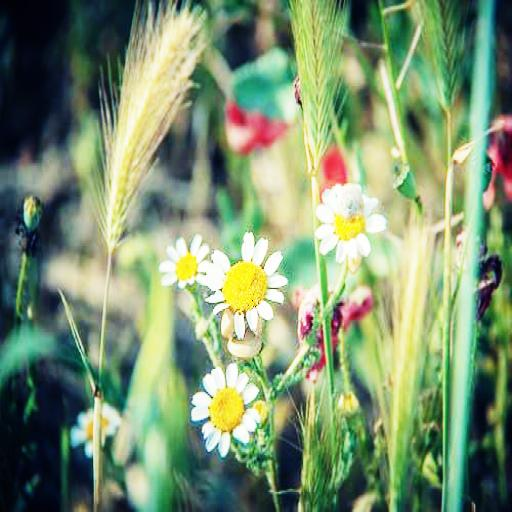daisy: (211, 238, 284, 329), (191, 367, 258, 446), (320, 186, 380, 263), (163, 238, 207, 284), (74, 406, 116, 450)
